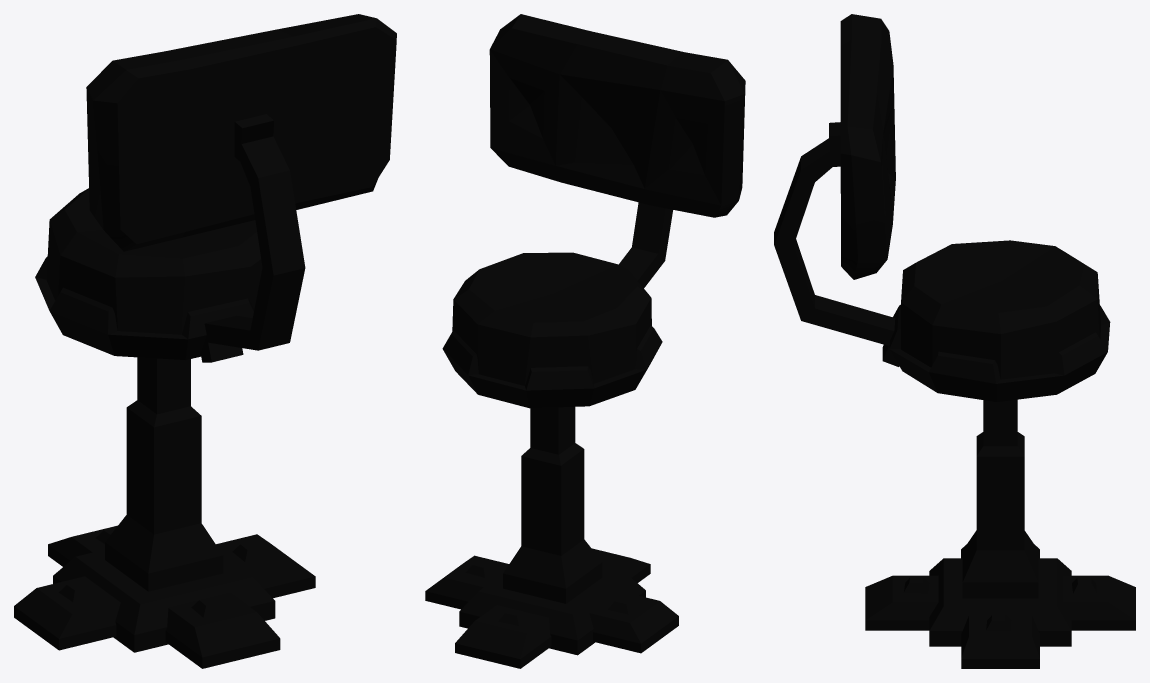
File: cyber_SM_Prop_Stool_02.gltf
3 views of the same model, side by side, from view 1: azimuth 30°, elevation 25°; view 2: azimuth 150°, elevation 25°; view 3: azimuth 270°, elevation 25° (orthographic). The views are drawn at different scales.
Visible parts, largest first — view 1: SM_Prop_Stool_02; view 2: SM_Prop_Stool_02; view 3: SM_Prop_Stool_02.
Part boxes in pixels (x1,y1,x2,y2): SM_Prop_Stool_02: (14, 14, 396, 668); SM_Prop_Stool_02: (425, 14, 745, 668); SM_Prop_Stool_02: (774, 14, 1135, 668).
Bounding box in the file's own units: 0.6338 × 1.28 × 0.7626.
Materials: 1 (1 with a texture image).
